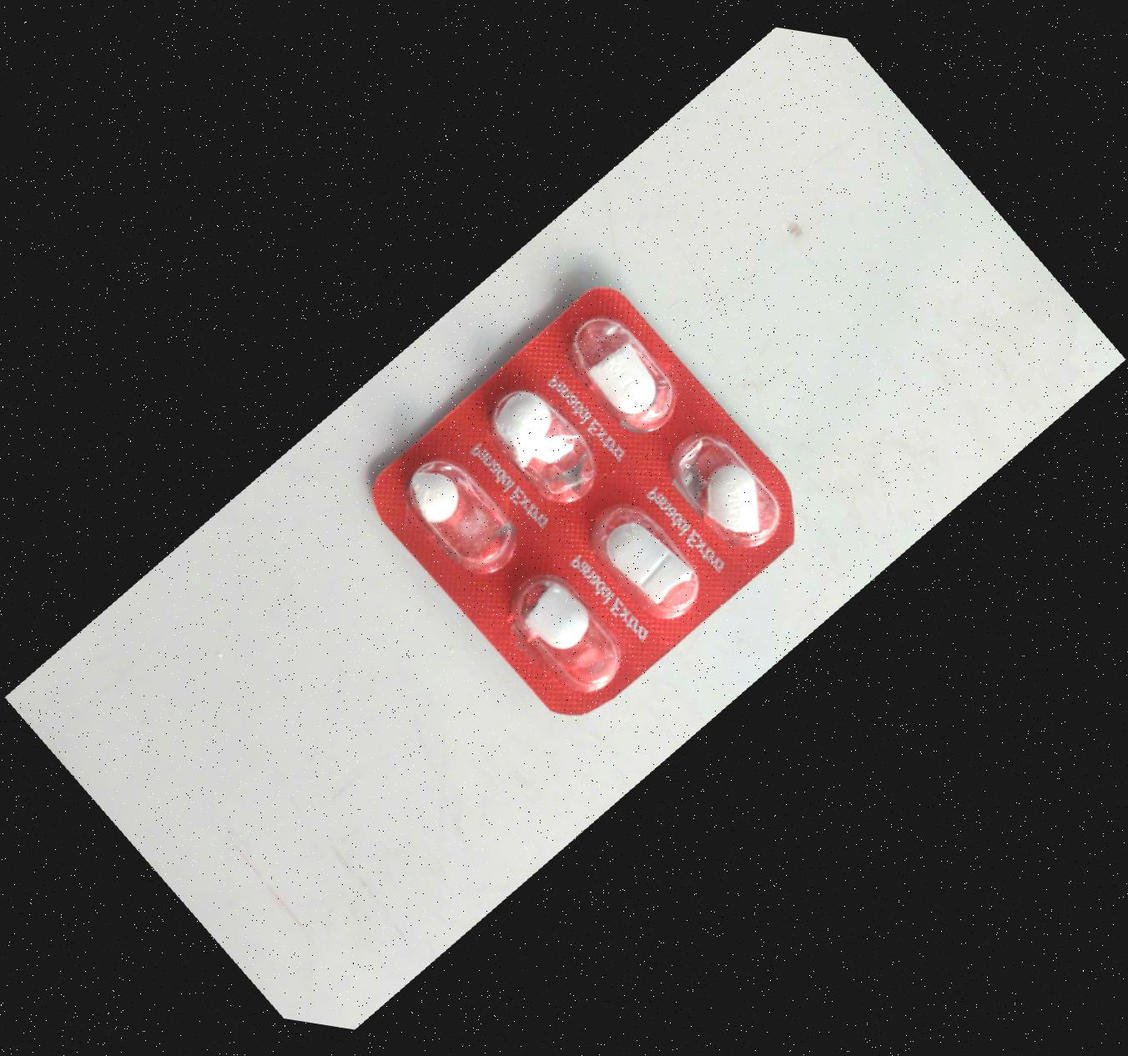Partial: (641, 408, 799, 574), (545, 291, 703, 457), (460, 362, 618, 528), (373, 430, 531, 596), (566, 474, 724, 640), (494, 553, 652, 718)
